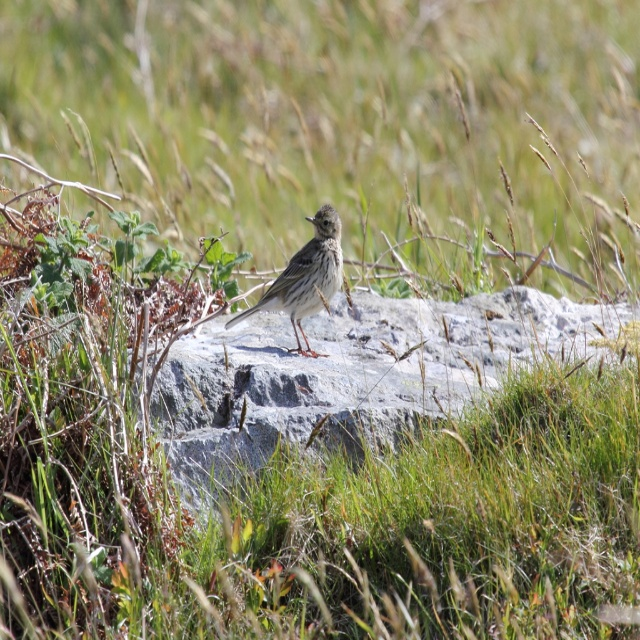Sparrow: (226, 205, 348, 354)
